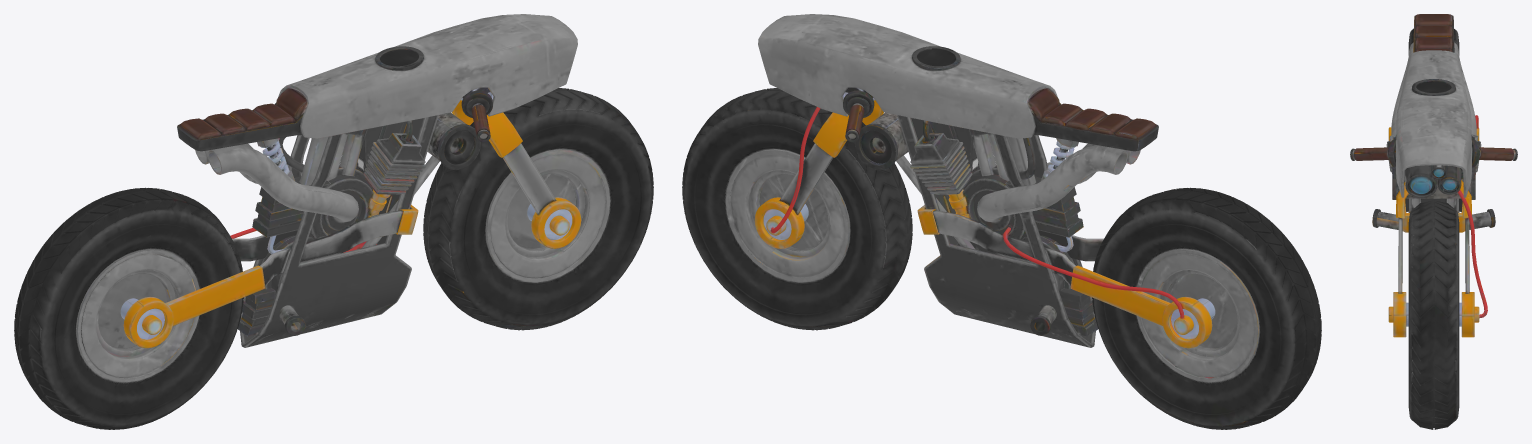
File: bike-1k.glb
3 renders of one model, left to right at view 1: azimuth 30°, elevation 25°; view 2: azimuth 150°, elevation 25°; view 3: azimuth 270°, elevation 25°, orthographic. The views are drawn at different scales.
Visible parts, largest first — view 1: Circle.003, wheel_rear, wheel_front; view 2: Circle.003, wheel_rear, wheel_front; view 3: Circle.003, wheel_front, wheel_rear.
Part boxes in pixels (left/top/right/bottom): Circle.003: left=165, top=14, right=577, bottom=347; wheel_rear: left=14, top=187, right=243, bottom=429; wheel_front: left=423, top=88, right=653, bottom=330; Circle.003: left=758, top=14, right=1184, bottom=347; wheel_rear: left=1092, top=187, right=1321, bottom=429; wheel_front: left=682, top=88, right=912, bottom=330; Circle.003: left=1350, top=14, right=1517, bottom=318; wheel_front: left=1388, top=200, right=1479, bottom=429; wheel_rear: left=1388, top=28, right=1479, bottom=212.
Size of the model in its own units: 2 by 0.9284 by 0.5114.
1 material, 1 textured.
